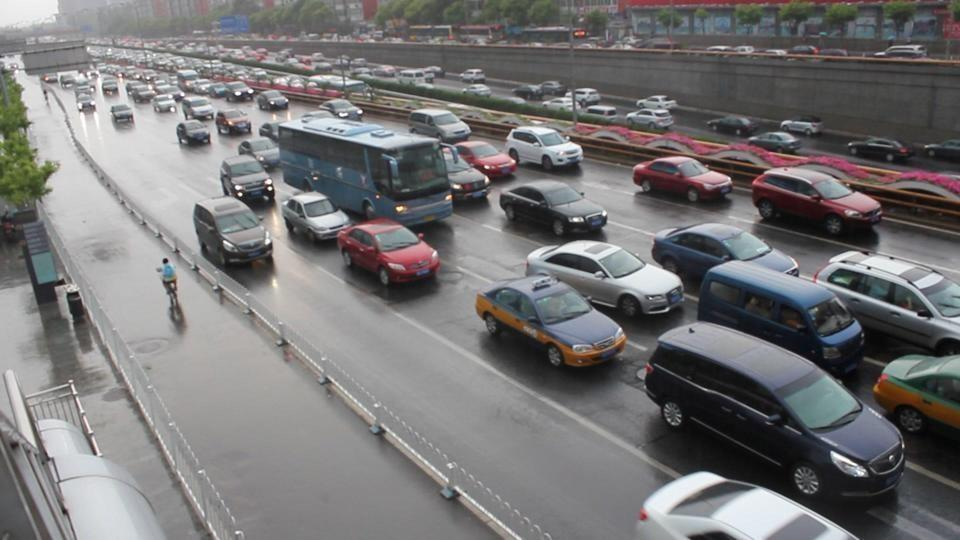car: (640, 321, 908, 509), (0, 368, 168, 537), (696, 260, 866, 378), (635, 469, 860, 539), (814, 250, 960, 356), (474, 275, 628, 368), (526, 238, 688, 317), (650, 221, 802, 298), (750, 166, 885, 237), (872, 352, 960, 440), (338, 217, 440, 286), (498, 181, 609, 239), (192, 194, 275, 268), (631, 155, 733, 203), (280, 190, 356, 244), (505, 125, 584, 173), (439, 146, 492, 203), (219, 157, 276, 205), (454, 141, 519, 181), (407, 107, 471, 144), (237, 137, 282, 170), (216, 109, 252, 137), (175, 120, 211, 147), (110, 103, 135, 130), (152, 94, 177, 115), (77, 97, 98, 114)
